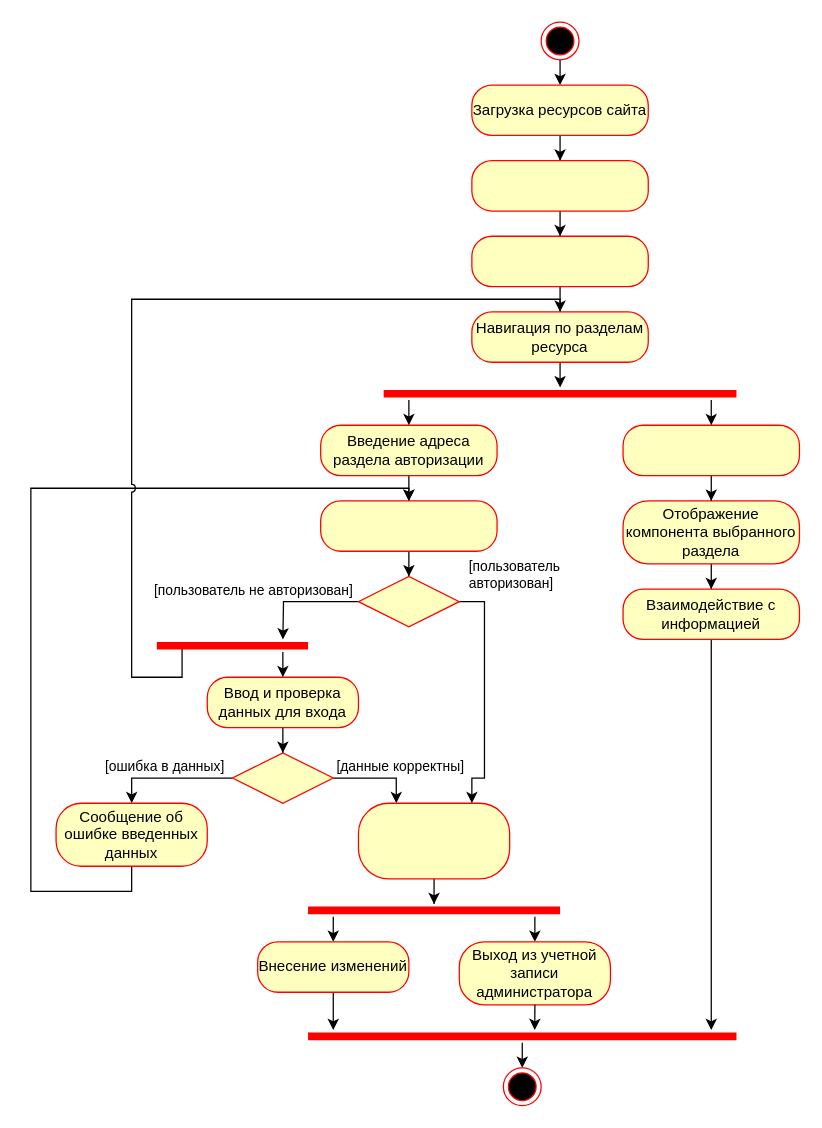
This 822x1128 diagram has some shape labels left out. The shapes that lost their labels are listed below. From the top down, each one's box as (x1, y1, x2, y2) in pixels, then its label:
(471, 159, 648, 211): Отображение главной страницы
(471, 235, 648, 287): Отображение компонента домашней страницы
(622, 424, 799, 476): Выбора раздела
(319, 500, 497, 551): Отображение компонента авторизации
(357, 802, 510, 879): Отображение компонента редактирования контента
